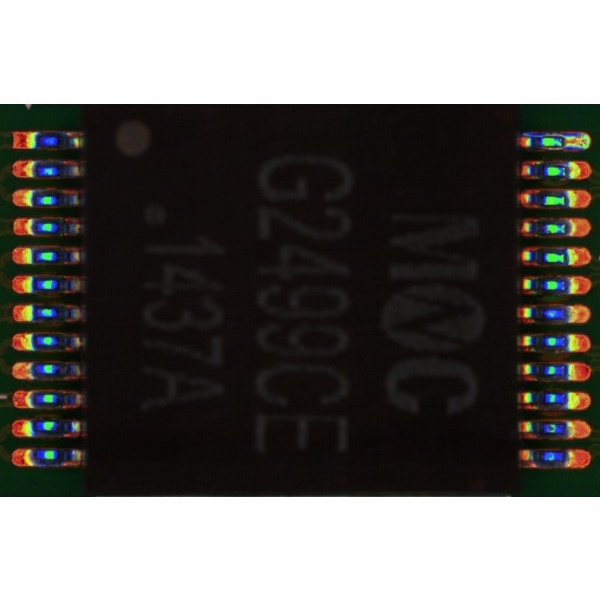Bad_podu: (554, 136, 576, 146)
Bad_qiaojiao: (524, 129, 565, 135)
